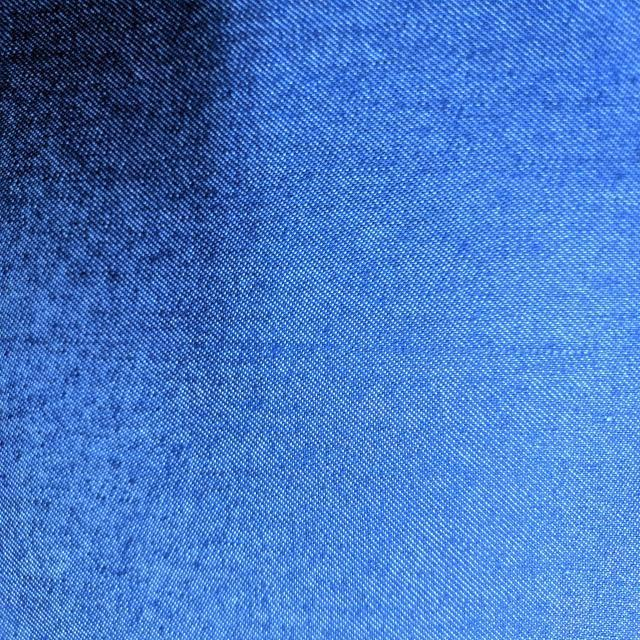Line: (178, 339, 596, 357)
